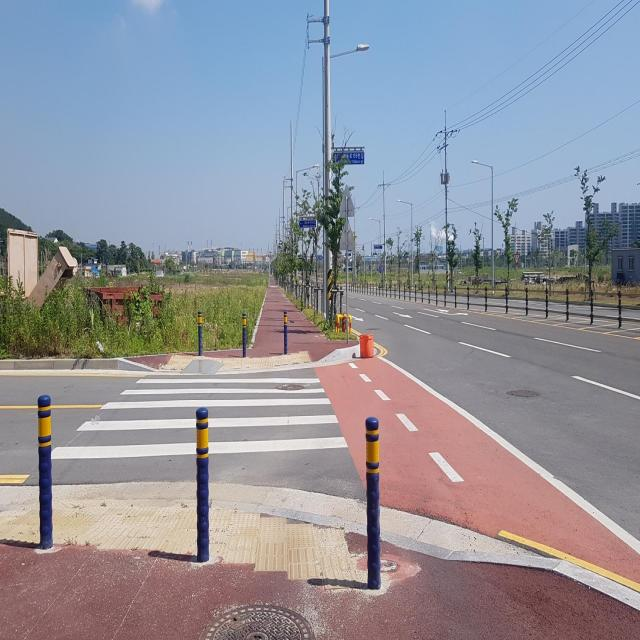횡단보도: (49, 376, 350, 462)
